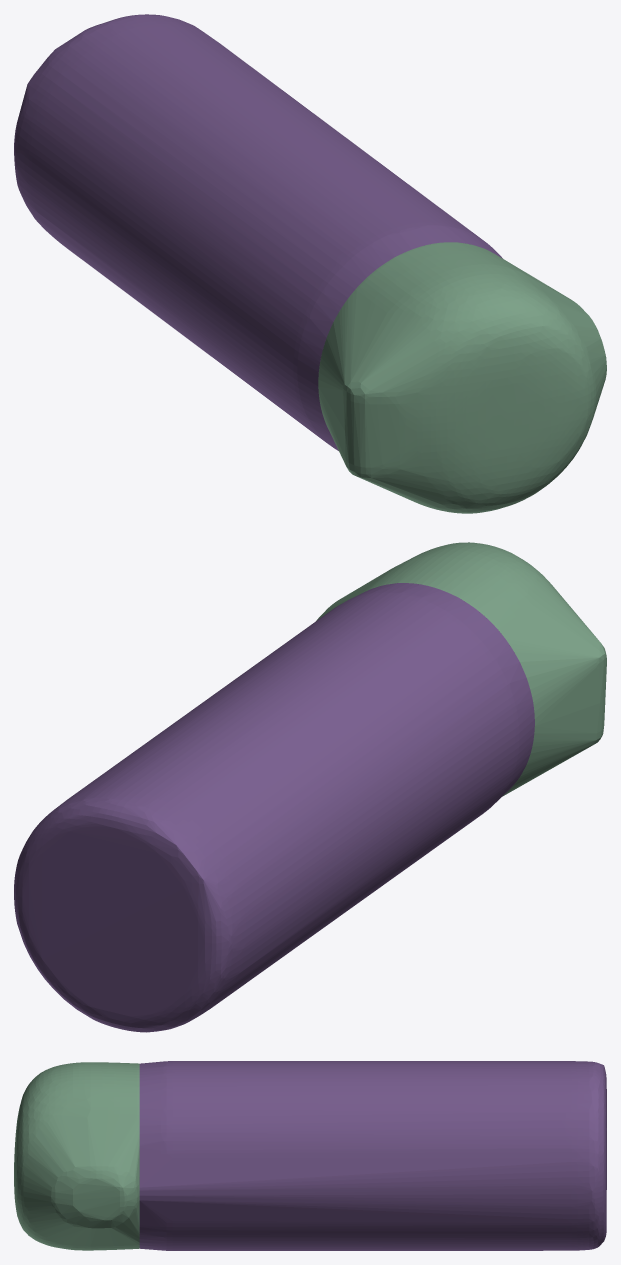
The model's file is coacd_collision.obj.
3 renders of one model, top to bottom at view 1: azimuth 30°, elevation 25°; view 2: azimuth 150°, elevation 25°; view 3: azimuth 270°, elevation 25°, orthographic. The views are drawn at different scales.
Visible parts, largest first — view 1: geometry_1, geometry_0; view 2: geometry_1, geometry_0; view 3: geometry_1, geometry_0.
Part boxes in pixels (bbox=[...]): geometry_1: bbox=[14, 14, 502, 450]; geometry_0: bbox=[318, 242, 606, 513]; geometry_1: bbox=[14, 583, 534, 1032]; geometry_0: bbox=[316, 542, 606, 796]; geometry_1: bbox=[139, 1061, 606, 1250]; geometry_0: bbox=[14, 1062, 139, 1250].
Bounding box in the file's own units: 79.56 × 67.24 × 209.
